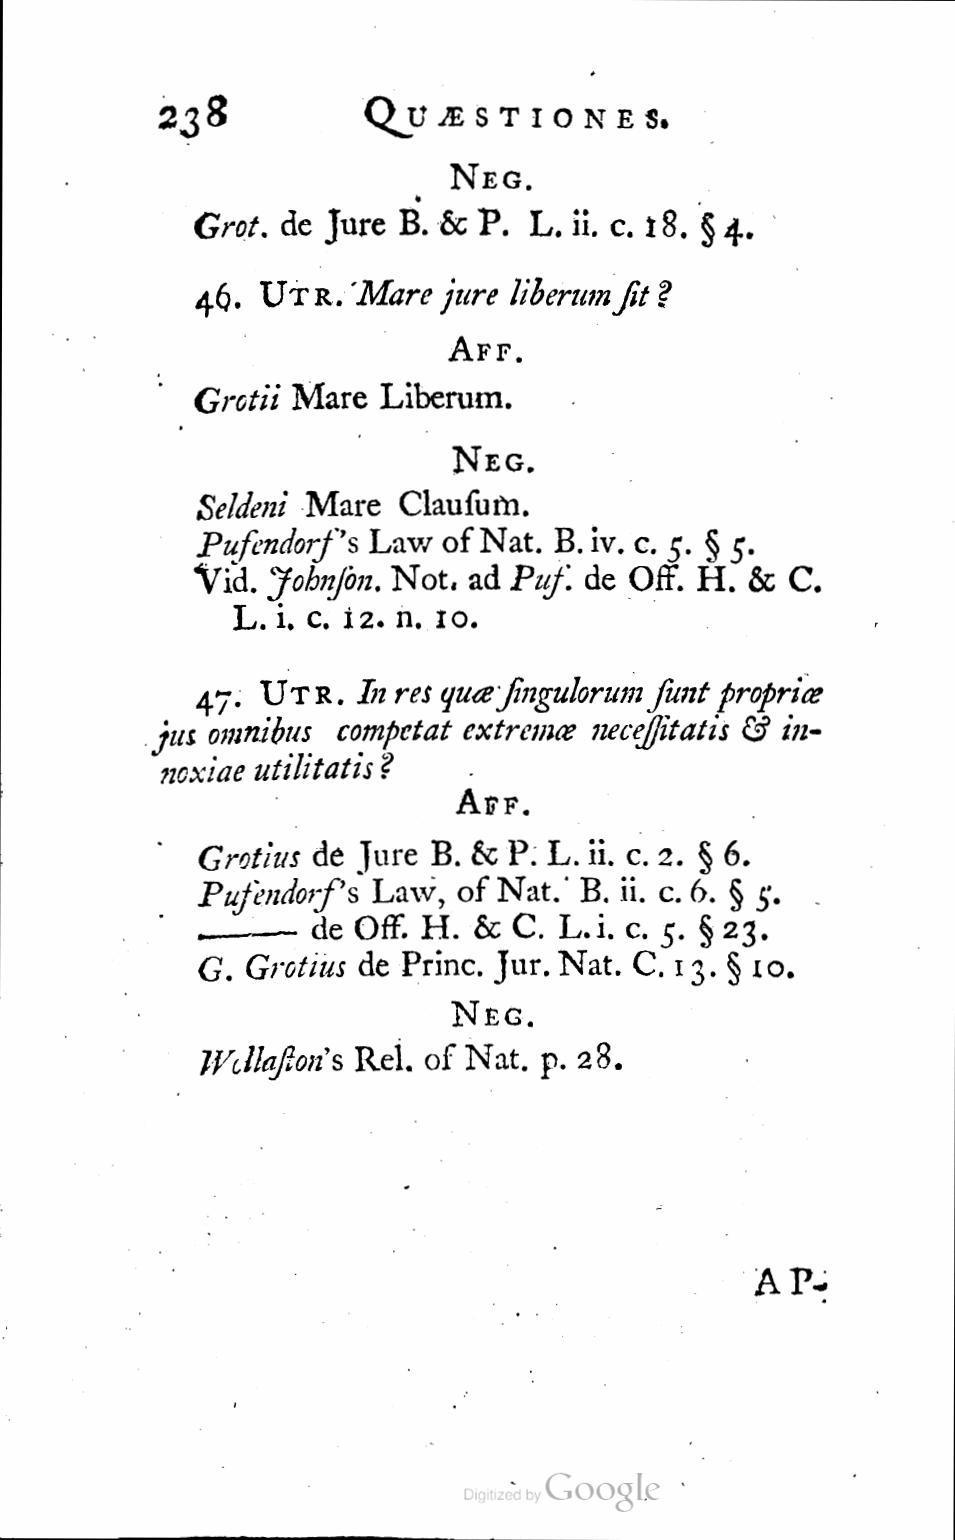catchword: (751, 1258, 832, 1300)
full_p: (190, 836, 804, 990), (196, 488, 828, 636), (150, 674, 826, 787), (190, 208, 762, 252), (188, 274, 676, 324), (194, 1042, 628, 1082), (193, 384, 514, 414), (446, 156, 538, 198), (446, 994, 538, 1034), (448, 440, 538, 476), (452, 784, 534, 820), (452, 332, 526, 370)
header: (360, 88, 674, 144)
page_num: (154, 90, 232, 144)
